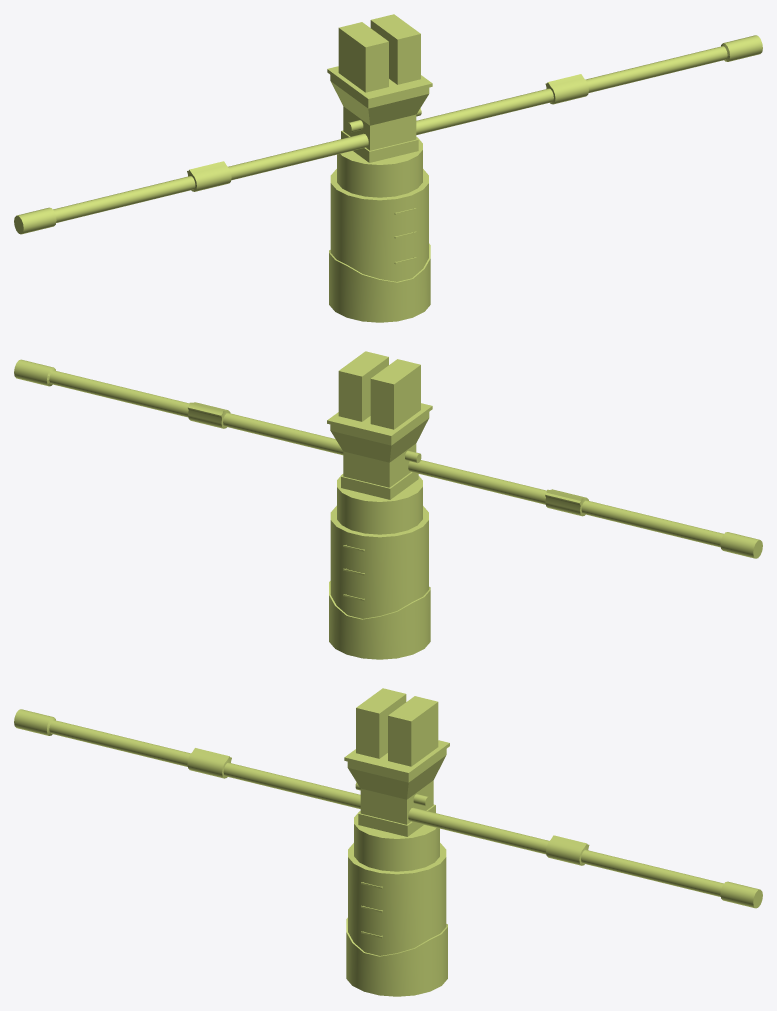
The model's file is ExteriorPiece_Pillar.FBX.
3 views of the same model, one above another, from view 1: azimuth 30°, elevation 25°; view 2: azimuth 150°, elevation 25°; view 3: azimuth 330°, elevation 25° (orthographic).
Parts seen in each view (by area): view 1: ExteriorPiece_Pillar; view 2: ExteriorPiece_Pillar; view 3: ExteriorPiece_Pillar.
Part boxes in pixels (box(x1,y1,x2,y2)): ExteriorPiece_Pillar: box(14, 14, 762, 322); ExteriorPiece_Pillar: box(14, 351, 762, 659); ExteriorPiece_Pillar: box(14, 688, 762, 996).
Size of the model in its own units: 2484 by 300 by 867.
